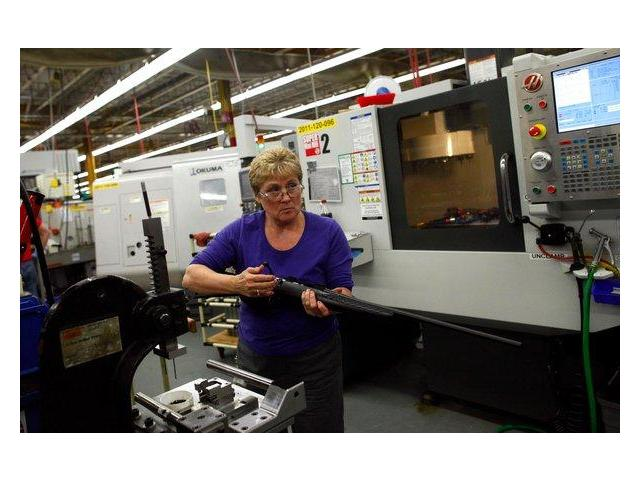rifle: (237, 267, 524, 351)
